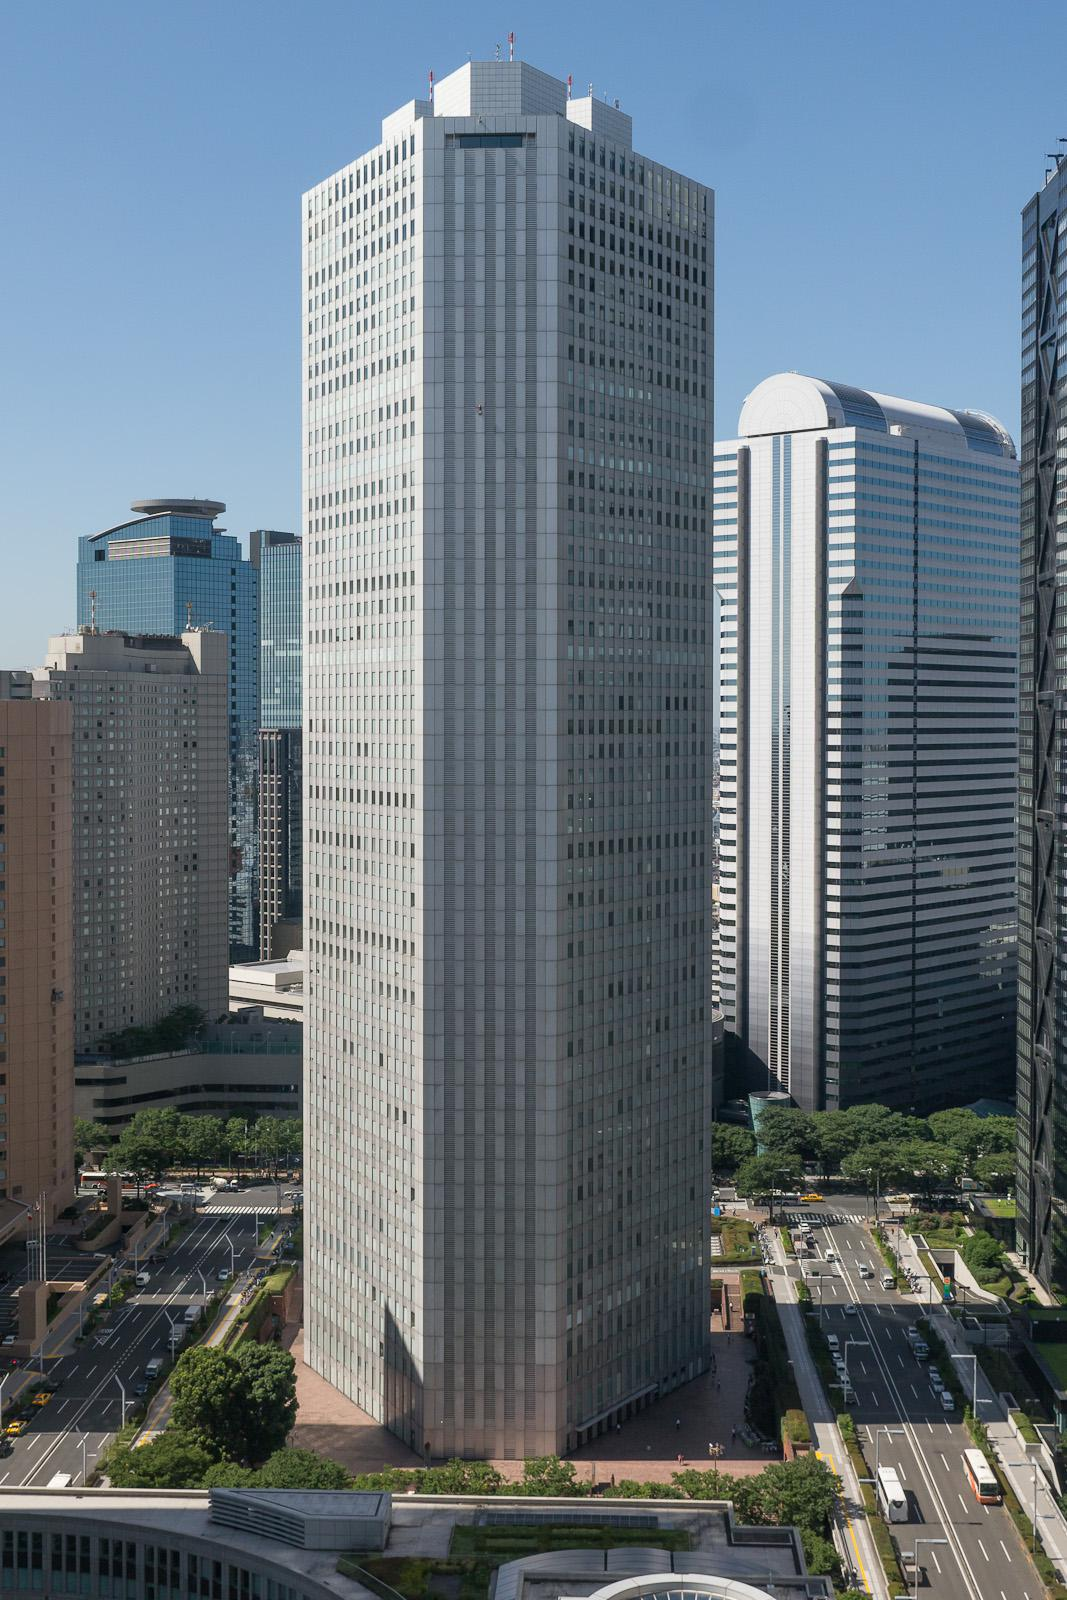affected: (216, 54, 822, 1490)
